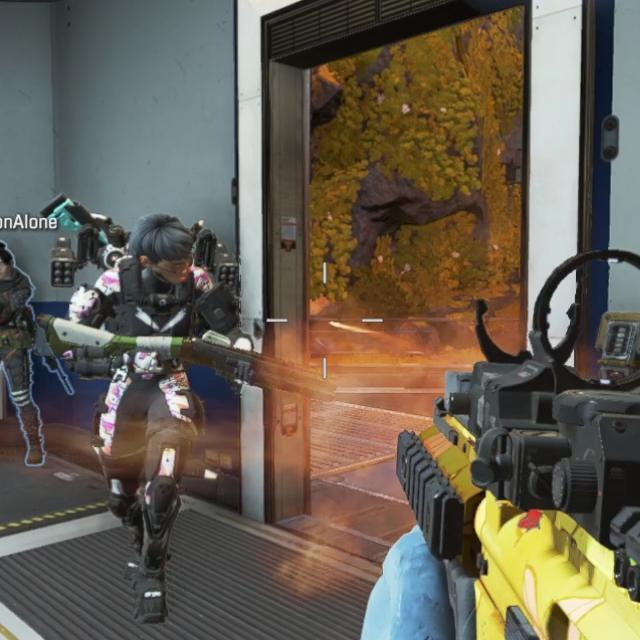avatar: (36, 209, 255, 630)
